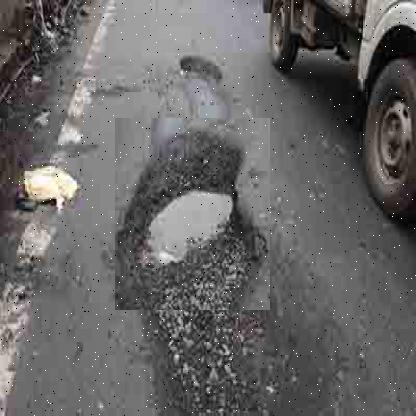pothole: (165, 41, 236, 99)
pothole_water: (114, 118, 270, 311)
